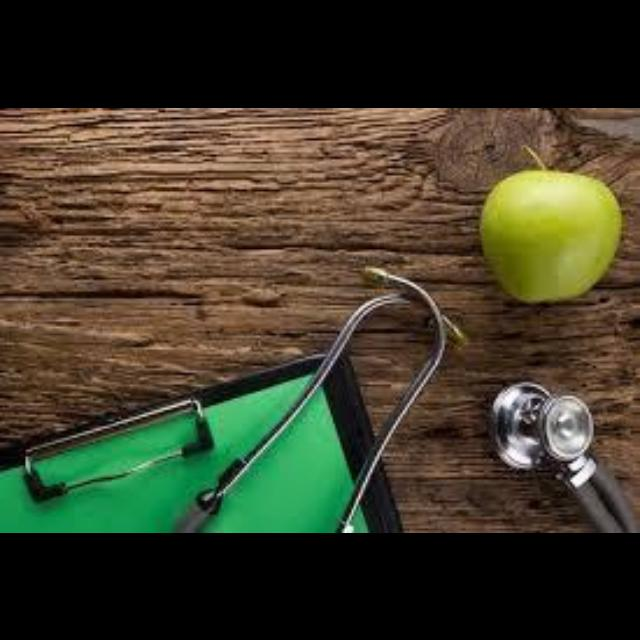apple: (482, 147, 621, 300)
